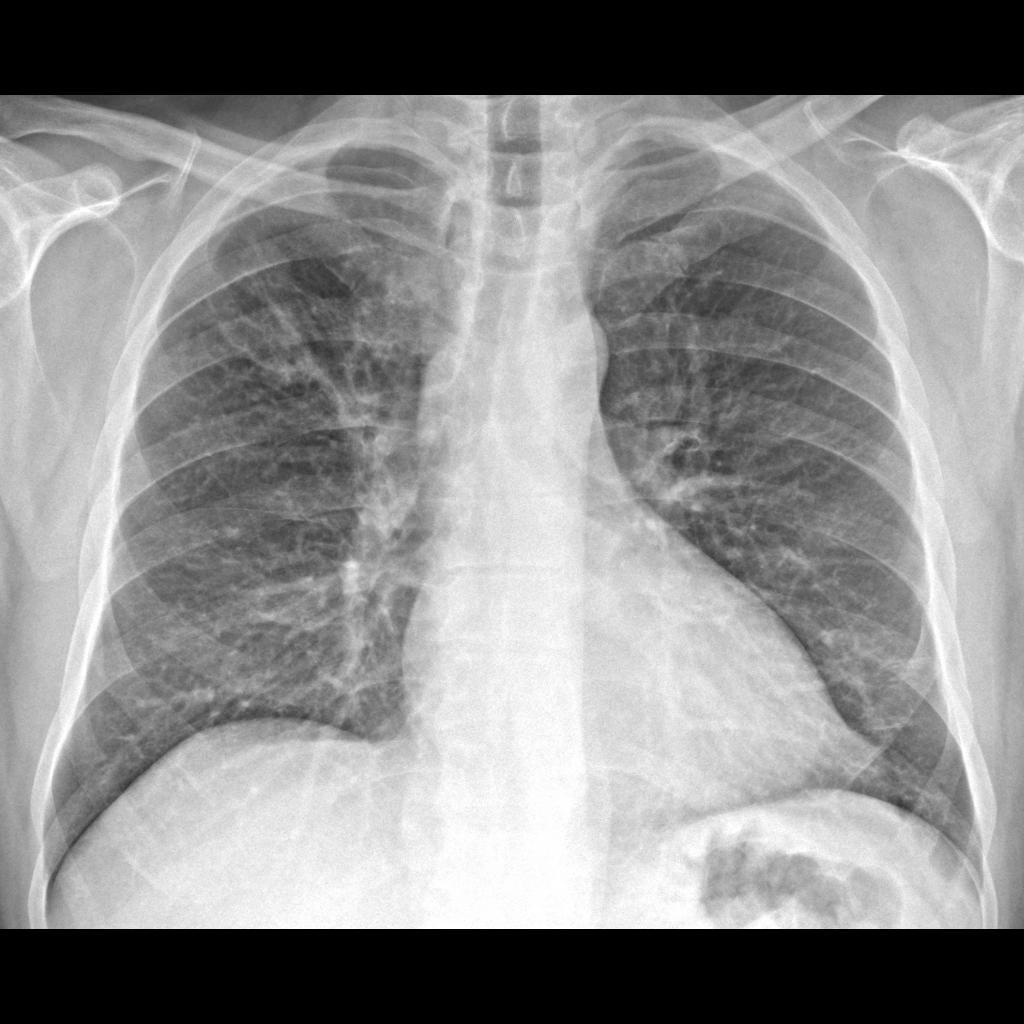Nodule: (223, 238, 300, 299)
